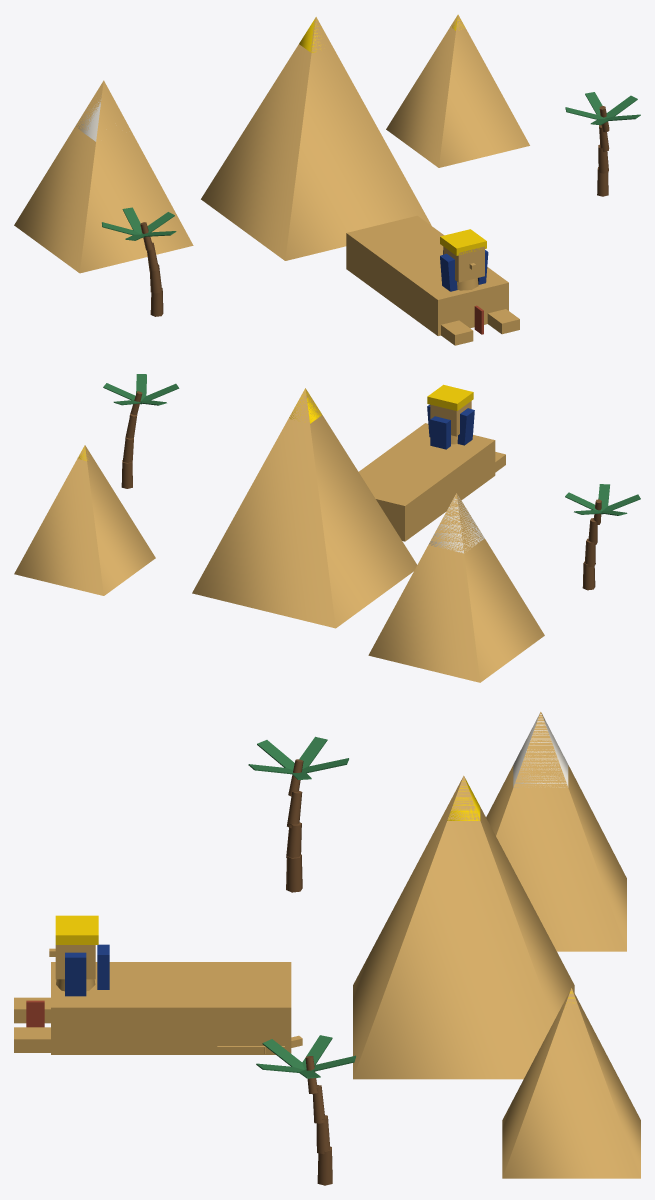
File: egypt.glb
The picture shows the model from 3 angles, top to bottom: view 1: azimuth 30°, elevation 25°; view 2: azimuth 150°, elevation 25°; view 3: azimuth 270°, elevation 25°; orthographic projection. The views are drawn at different scales.
Parts seen in each view (by area): view 1: PyramidBody (×3), SphinxBody, Leaves (×2), Trunk (×2), SphinxHead, NemesTop, PawL, PawR, NemesWingL, LimestoneCasing; view 2: PyramidBody (×3), SphinxBody, Trunk (×2), Leaves (×2), LimestoneCasing, NemesTop, NemesBack, SphinxHead, NemesWingL; view 3: PyramidBody (×3), SphinxBody, Trunk (×2), Leaves (×2), LimestoneCasing, NemesTop, NemesWingR, PawR, SphinxHead, PyramidionGold.
Part boxes in pixels (x1,y1,x2,y2): PyramidBody (×3): [14, 15, 529, 273]; SphinxBody: [346, 215, 508, 335]; Leaves (×2): [102, 92, 640, 240]; Trunk (×2): [140, 106, 609, 316]; SphinxHead: [443, 246, 484, 282]; NemesTop: [440, 229, 486, 255]; PawL: [441, 320, 473, 345]; PawR: [487, 309, 519, 334]; NemesWingL: [440, 253, 457, 291]; LimestoneCasing: [76, 100, 101, 141]; PyramidBody (×3): [14, 388, 544, 682]; SphinxBody: [359, 423, 495, 541]; Trunk (×2): [121, 391, 601, 590]; Leaves (×2): [103, 374, 640, 515]; LimestoneCasing: [429, 495, 484, 553]; NemesTop: [427, 384, 473, 410]; NemesBack: [430, 416, 450, 449]; SphinxHead: [430, 401, 471, 436]; NemesWingL: [457, 408, 474, 445]; PyramidBody (×3): [353, 712, 640, 1178]; SphinxBody: [51, 962, 291, 1054]; Trunk (×2): [286, 759, 332, 1185]; Leaves (×2): [248, 736, 355, 1078]; LimestoneCasing: [513, 714, 568, 787]; NemesTop: [55, 915, 98, 944]; NemesWingR: [65, 952, 86, 996]; PawR: [14, 1027, 50, 1052]; SphinxHead: [55, 945, 95, 979]; PyramidionGold: [447, 778, 480, 820].
Size of the model in its own units: 26.19 by 9.2 by 20.35.
